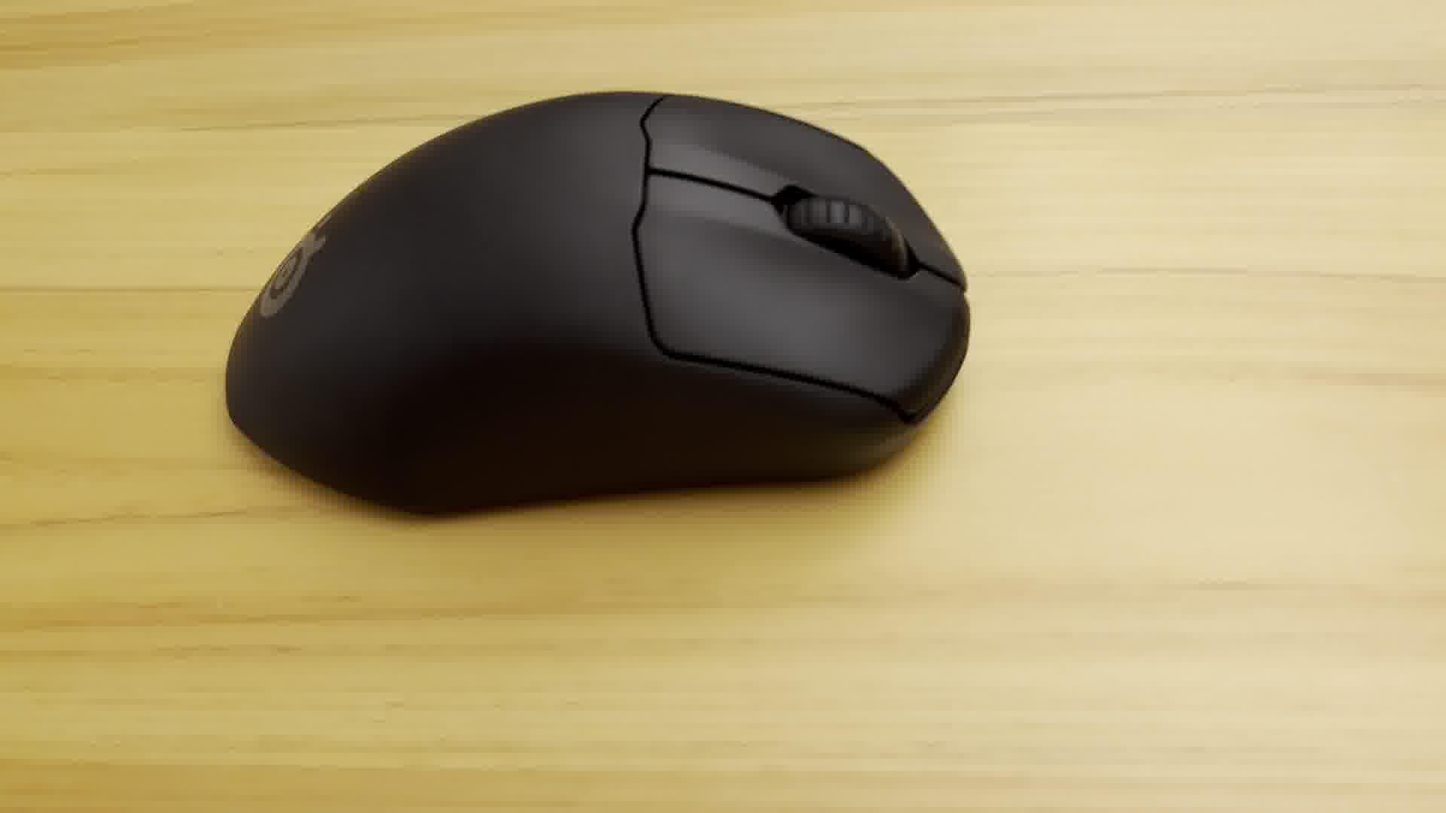mouse: (220, 81, 984, 534)
